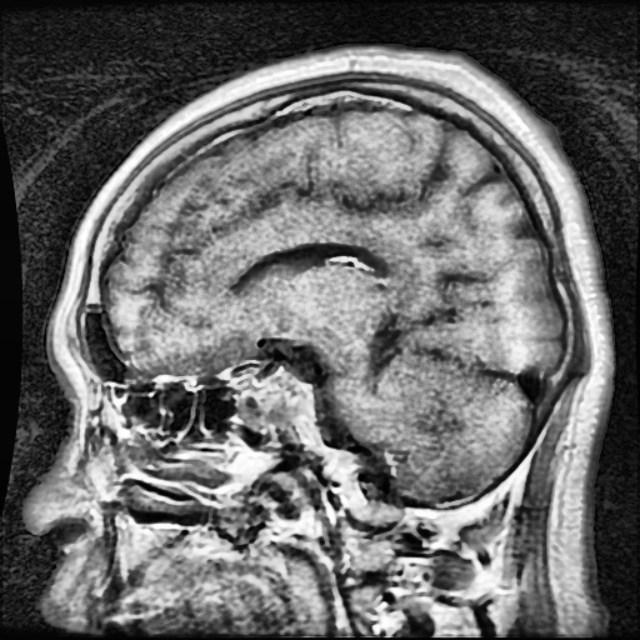Pituitary: (220, 358, 320, 448)
